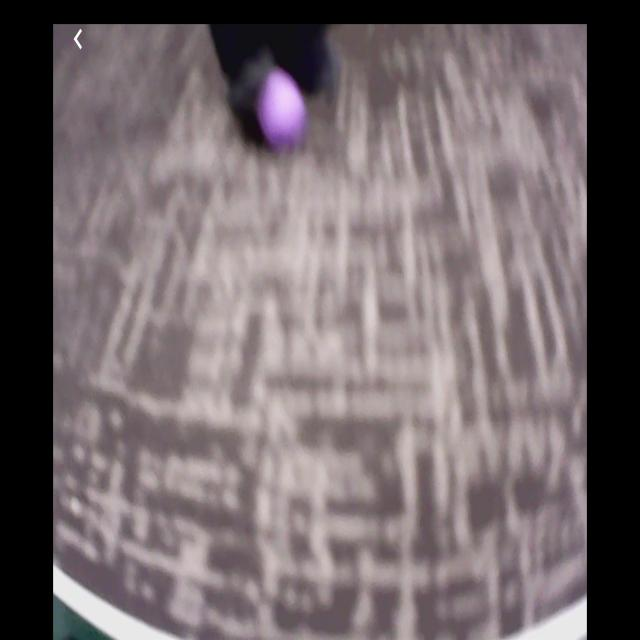ball: (256, 66, 309, 154)
